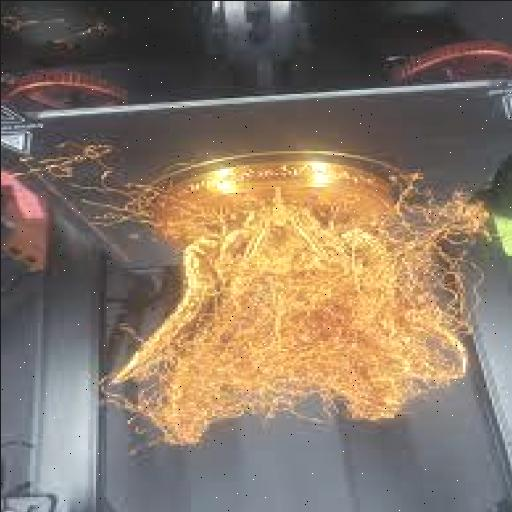spaghetti: (112, 216, 448, 448)
